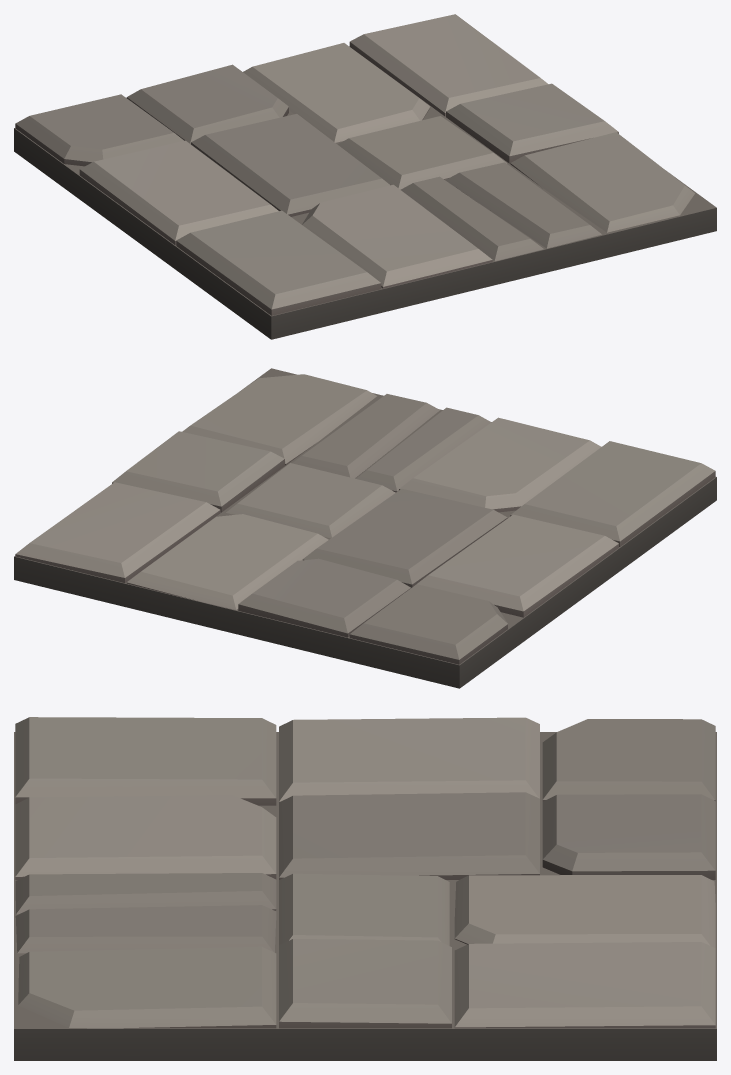
The model's file is floor_flagstones_ruined_small_B.glb.
3 views of the same model, one above another, from view 1: azimuth 30°, elevation 25°; view 2: azimuth 150°, elevation 25°; view 3: azimuth 270°, elevation 25° (orthographic). The views are drawn at different scales.
Parts seen in each view (by area): view 1: Item; view 2: Item; view 3: Item.
Part boxes in pixels (x1=…): Item: x1=14, y1=14, x2=716, y2=339; Item: x1=14, y1=368, x2=716, y2=688; Item: x1=14, y1=717, x2=716, y2=1060.
Size of the model in its own units: 2 by 0.1703 by 2.
Materials: 1 (1 with a texture image).
